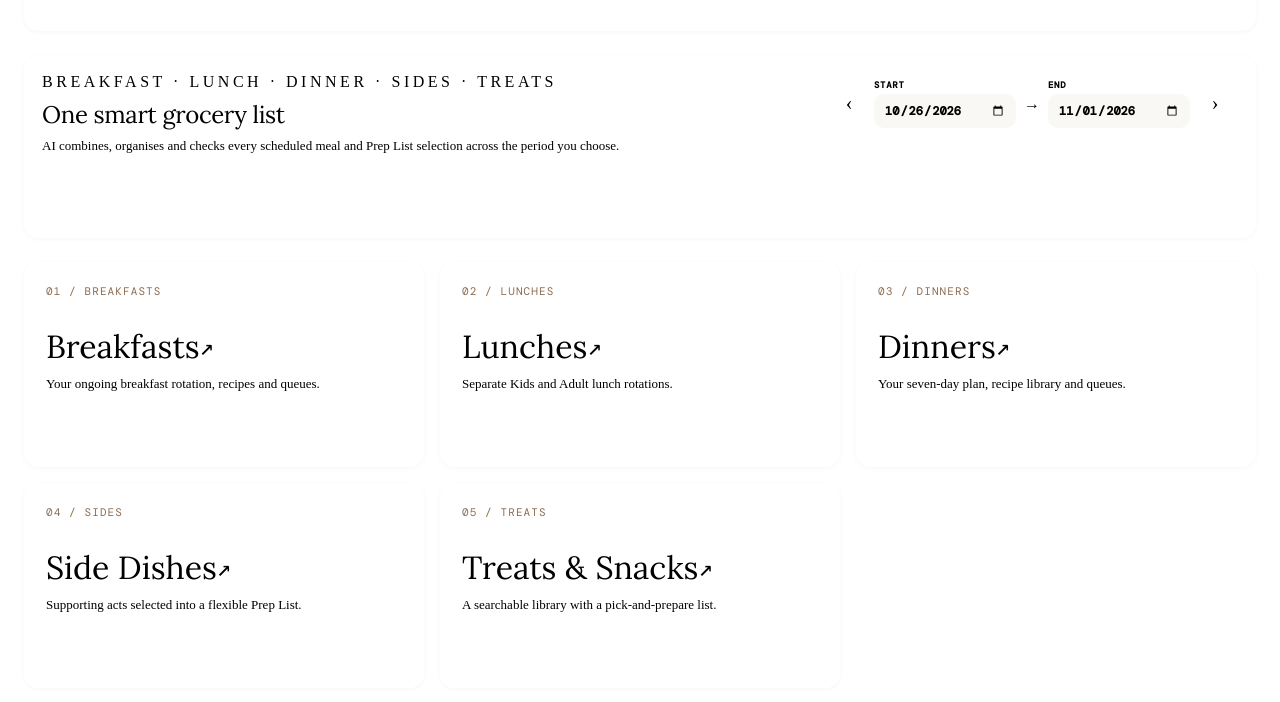
Test: Meal Planner opens a choice screen and returns from Breakfasts without leaving the app
This screenshot has width=1280, height=702.
(page scrolled)
Check: the element showing "Breakfasts ↗" is shown, box [46,328,214,364]
Check: the button with aria-label "Open Dinners planner" is shown, box [856,262,1256,466]
Click the button with aria-label "Open Breakfasts planner".
click(104, 290)  # box [24,262,424,466]
(page scrolled)
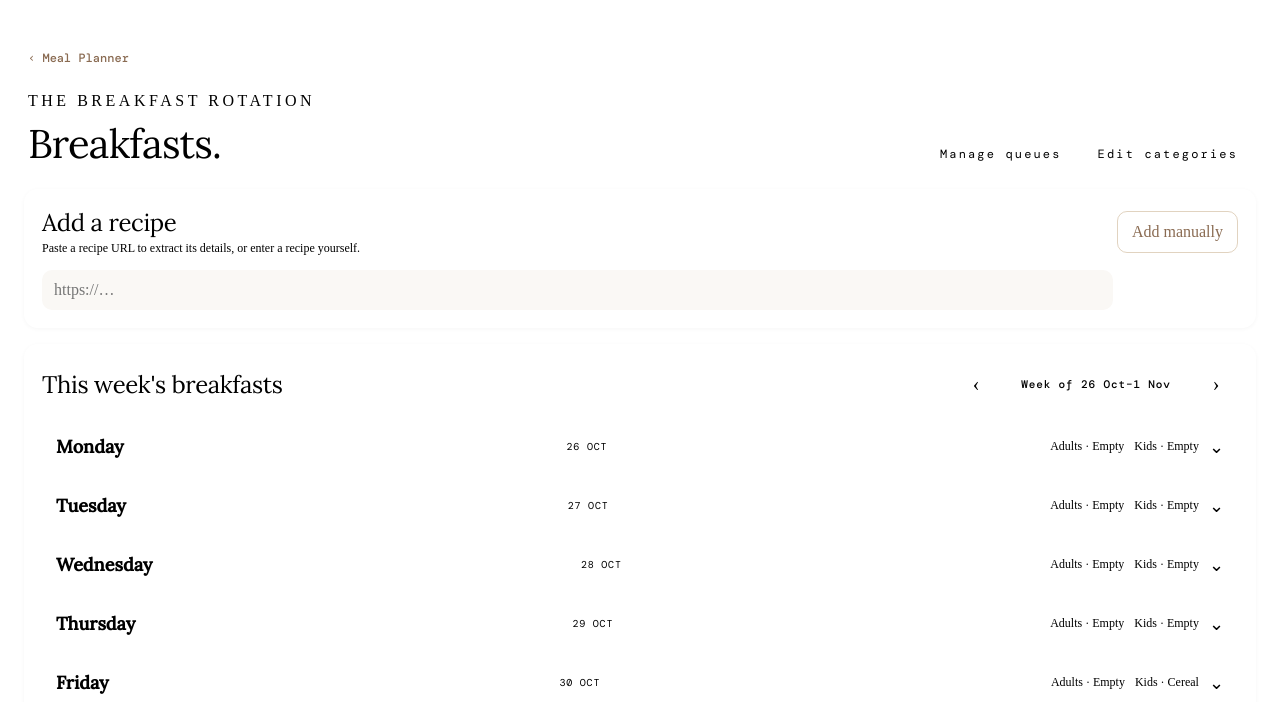
Check: the heading with class "brand" shows "Breakfasts", box [28,118,212,169]
Click the button with aria-label "Back to Meal Planner".
click(78, 58)  # box [28,46,129,70]
(page scrolled)
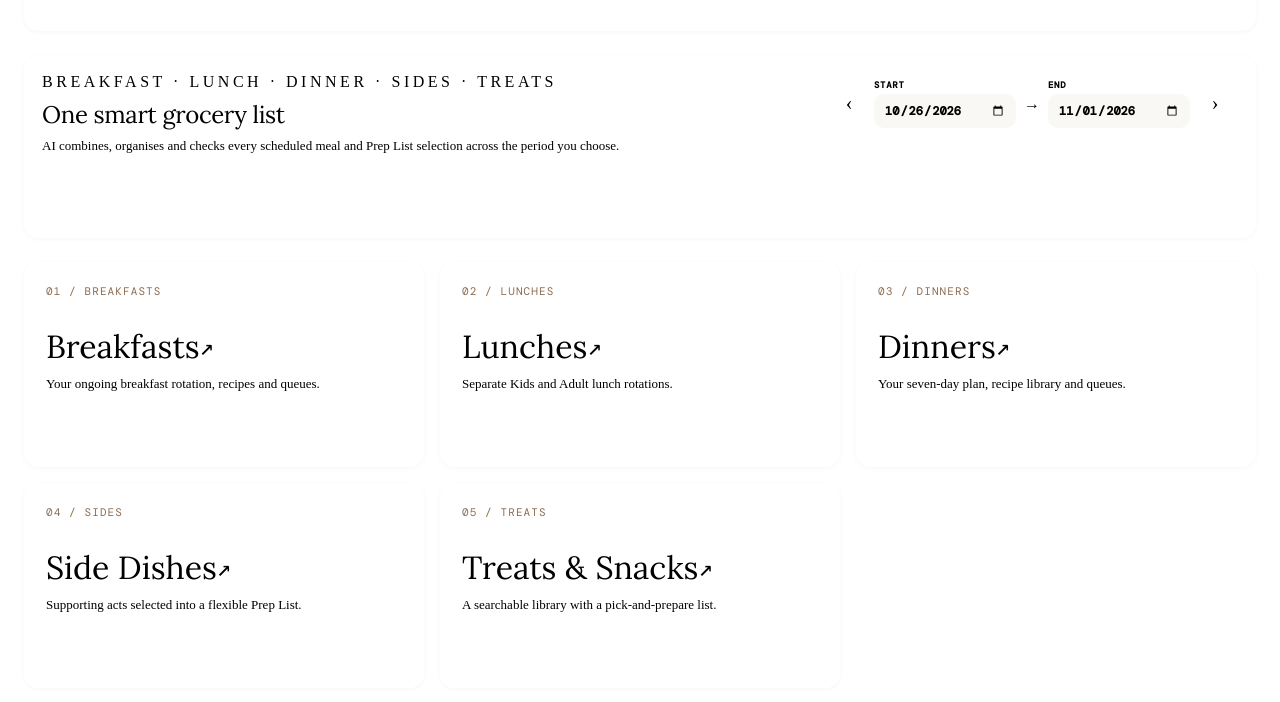
Check: the button with aria-label "Open Dinners planner" is shown
Click the button with aria-label "Open Dinners planner".
click(924, 290)  # box [856,262,1256,466]
(page scrolled)
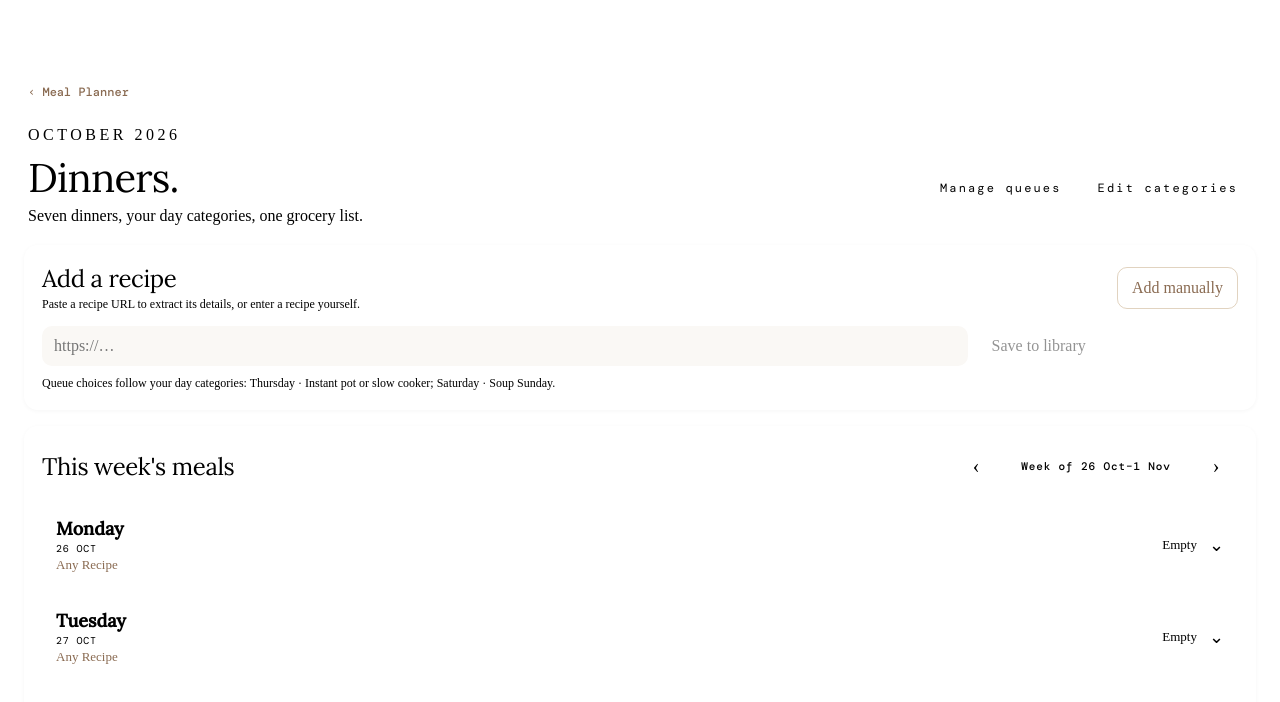
Check: the heading with class "brand" shows "Dinners", box [28,152,170,203]
